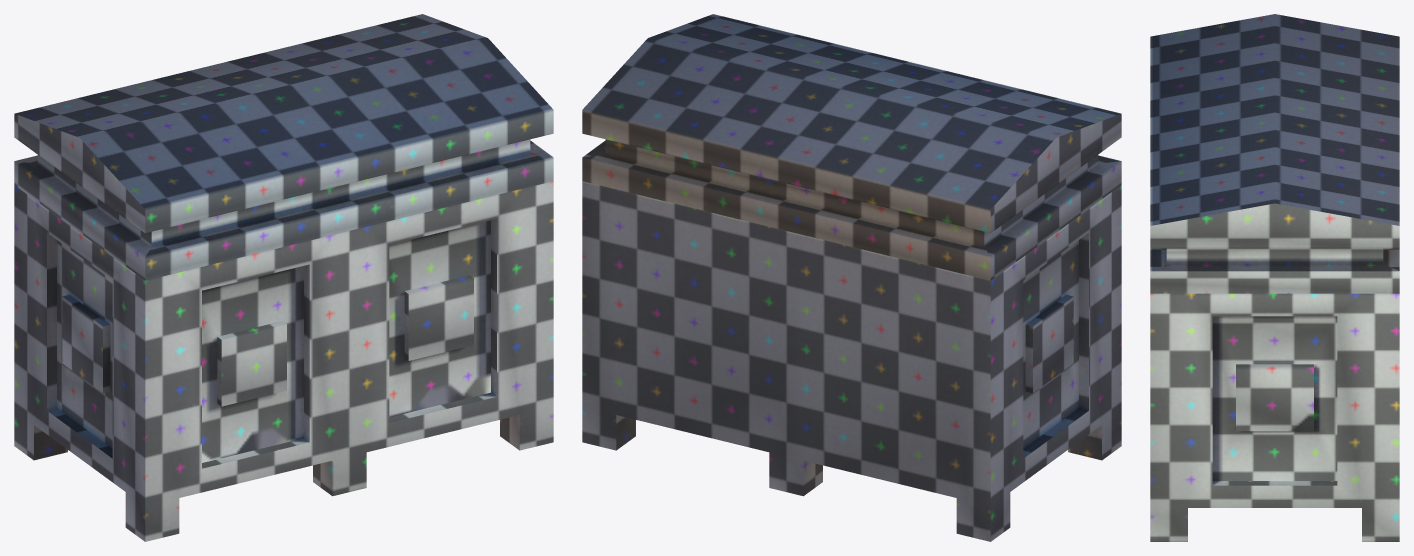
The model's file is chest.glb.
3 renders of one model, left to right at view 1: azimuth 30°, elevation 25°; view 2: azimuth 150°, elevation 25°; view 3: azimuth 270°, elevation 25°, orthographic. The views are drawn at different scales.
Visible parts, largest first — view 1: Chest_body, Chest_cover; view 2: Chest_body, Chest_cover; view 3: Chest_cover, Chest_body.
Part boxes in pixels (bbox=[...]): Chest_body: bbox=[14, 181, 553, 541]; Chest_cover: bbox=[14, 14, 553, 280]; Chest_body: bbox=[582, 181, 1121, 541]; Chest_cover: bbox=[582, 14, 1121, 280]; Chest_cover: bbox=[1150, 14, 1399, 293]; Chest_body: bbox=[1150, 293, 1399, 541].
Bounding box in the file's own units: 0.9 × 0.75 × 0.5.
Materials: 1 (1 with a texture image).
